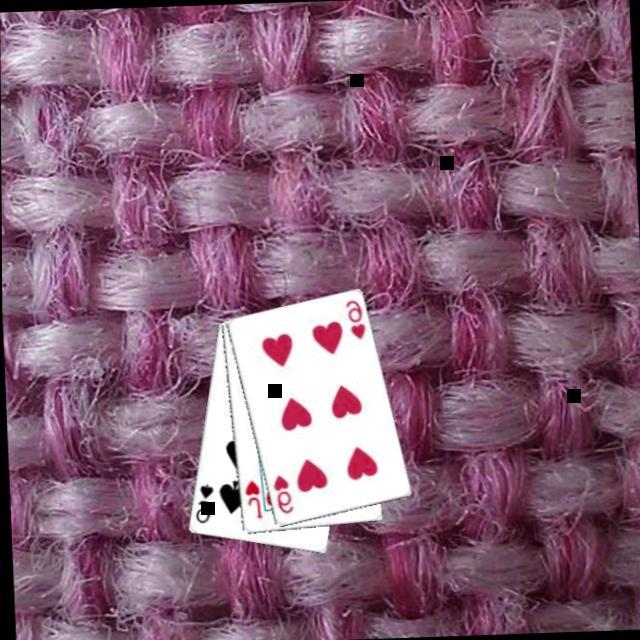6H: (342, 296, 370, 344), (270, 472, 296, 517)
9S: (192, 480, 218, 527)
JH: (242, 478, 265, 522)
